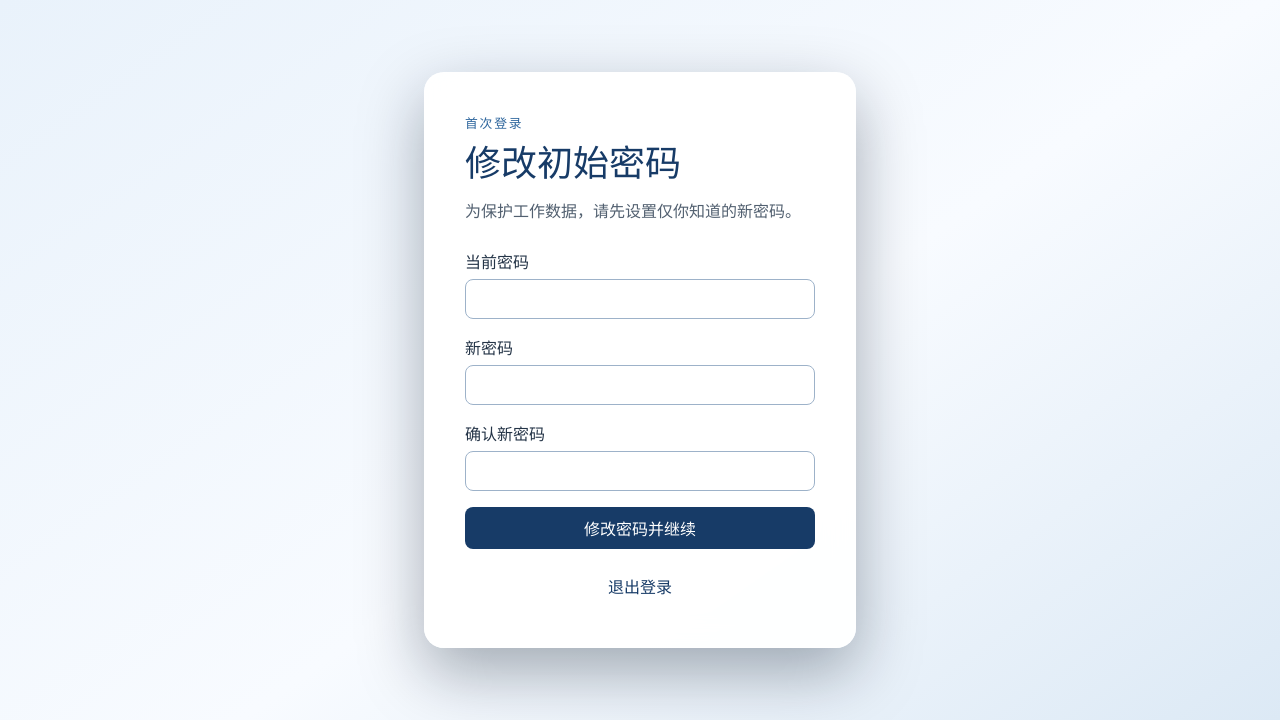
Test case: does not submit when the two new passwords differ
The image size is (1280, 720).
Step 1. Type "initial-password" into the password field labelled "当前密码" → [640, 299], box [465, 279, 815, 319]
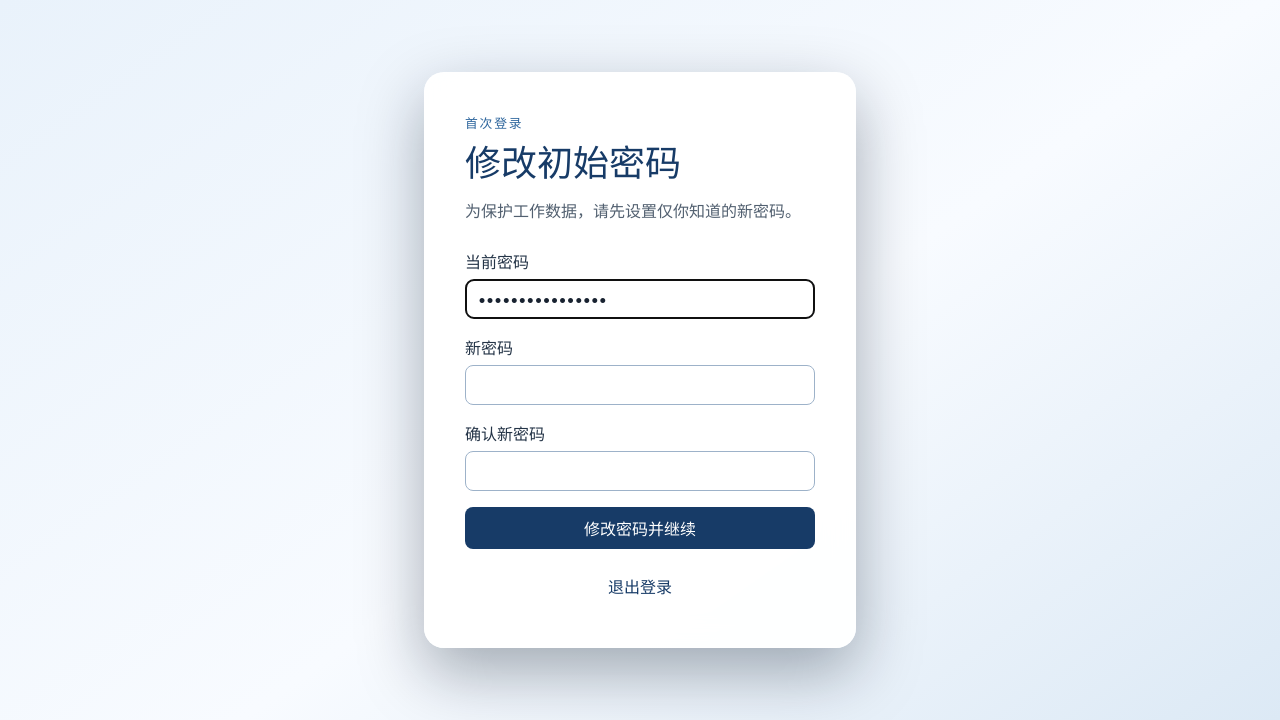
Step 2. Type "new-private-password" into the password field labelled "新密码" → [640, 385], box [465, 365, 815, 405]
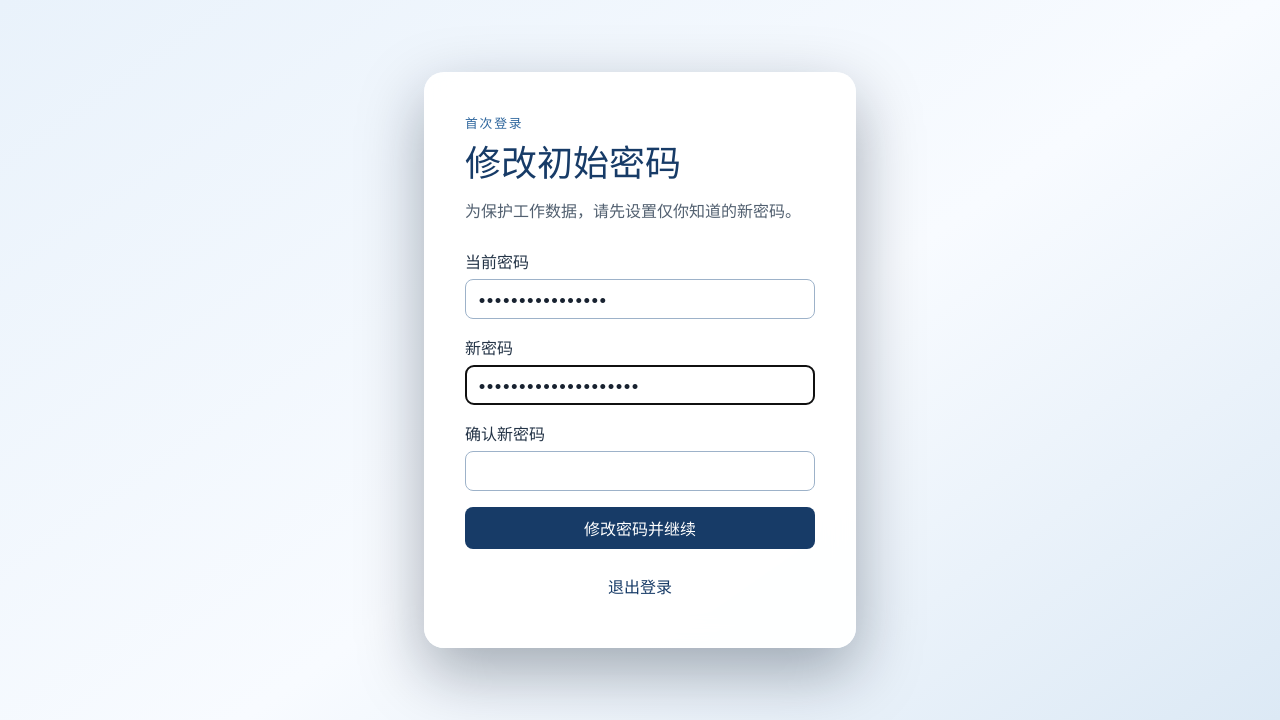
Step 3. Type "different-password" into the password field labelled "确认新密码" → [640, 471], box [465, 451, 815, 491]
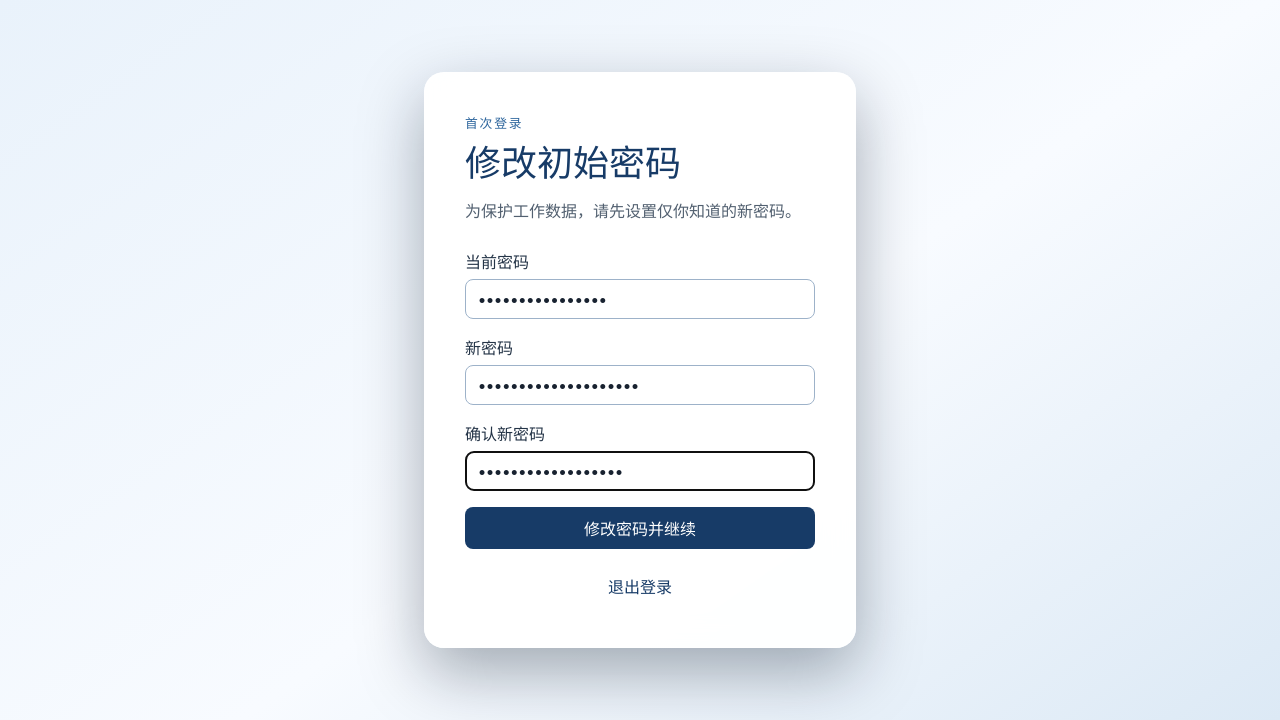
Step 4. Click the button "修改密码并继续" → [640, 528], box [465, 507, 815, 549]
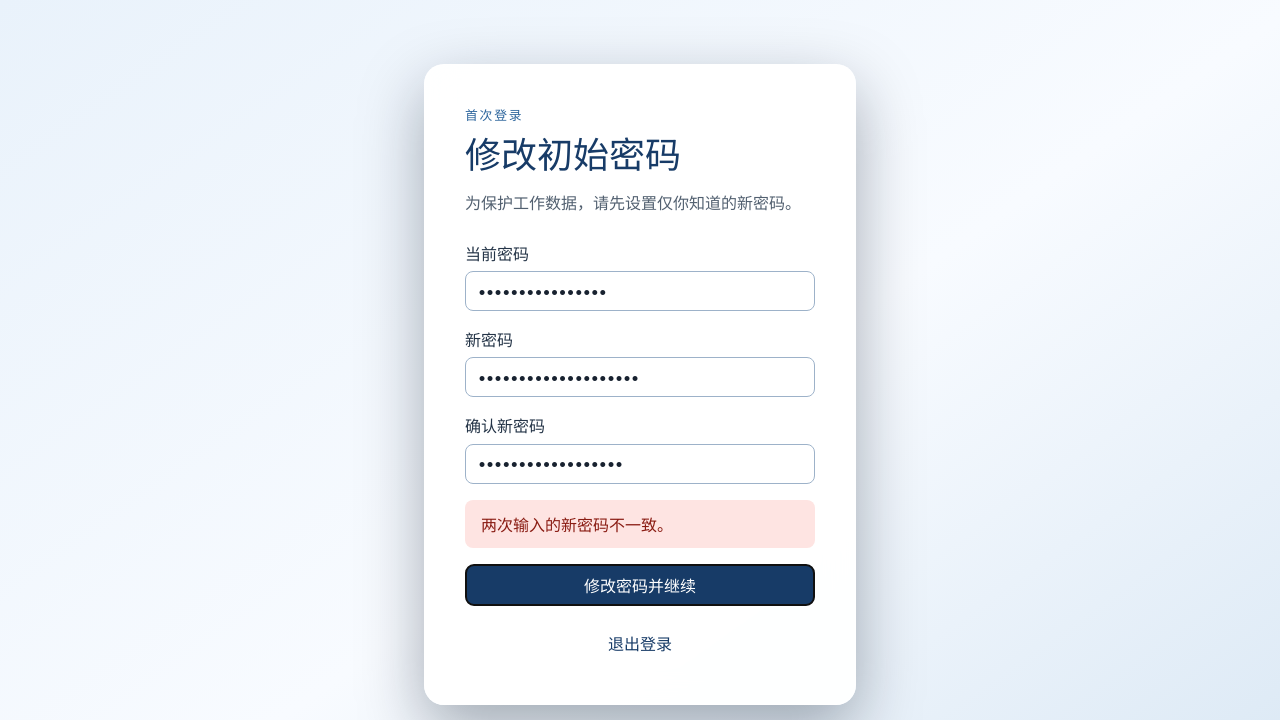
Result: the message shows "两次输入的新密码不一致" at [481, 515, 673, 535]
